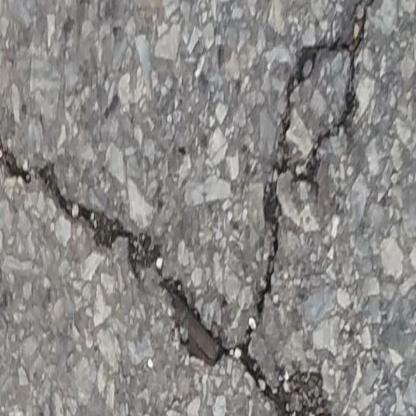Cracks: (235, 0, 381, 416), (0, 121, 231, 367)
